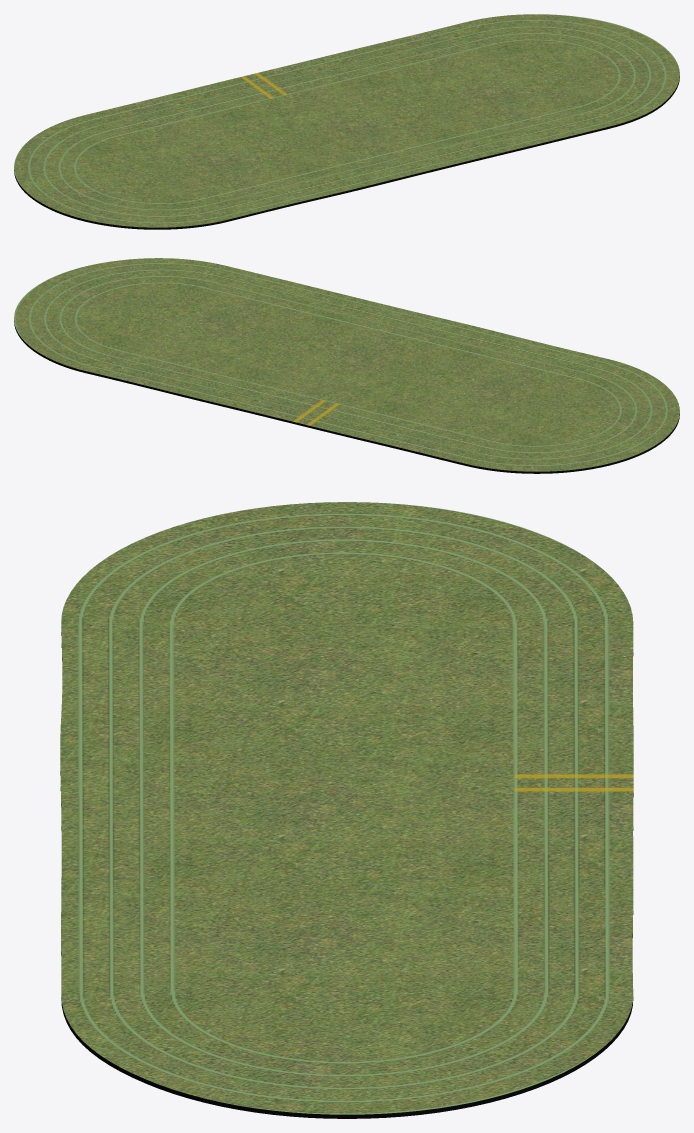
Rendered from Truck3d_2.glb.
The picture shows the model from 3 angles, top to bottom: view 1: azimuth 30°, elevation 25°; view 2: azimuth 150°, elevation 25°; view 3: azimuth 270°, elevation 25°; orthographic projection. The views are drawn at different scales.
Visible parts, largest first — view 1: path133; view 2: path133; view 3: path133.
Boxes of the visible parts, x1,y1,x2,y2 form: path133: (14,14,679,229); path133: (14,258,679,473); path133: (60,502,633,1118).
Bounding box in the file's own units: 5.43 × 0.0175 × 2.15.
1 material, 1 textured.
